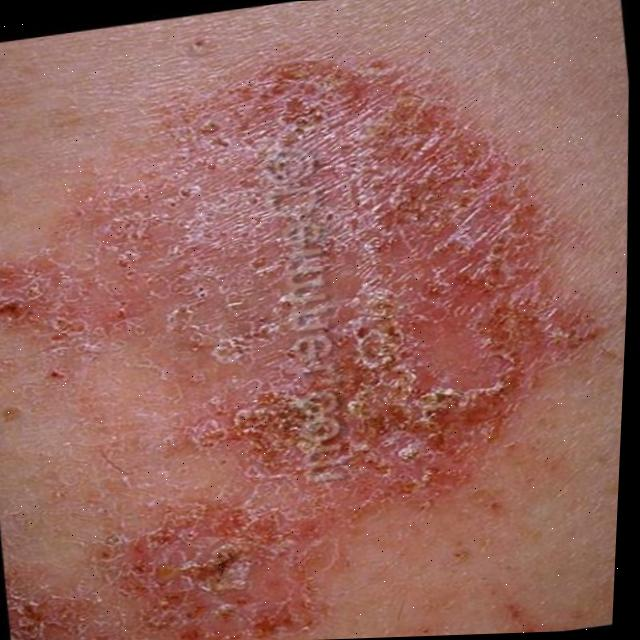Eczema: (7, 0, 585, 640)
